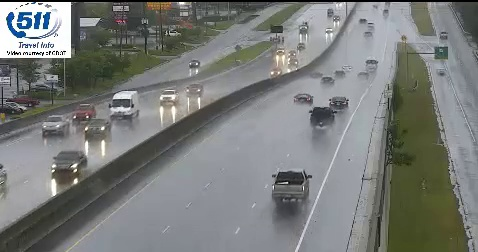car: (272, 169, 309, 199), (310, 107, 334, 126), (329, 95, 348, 110), (293, 93, 313, 106)
